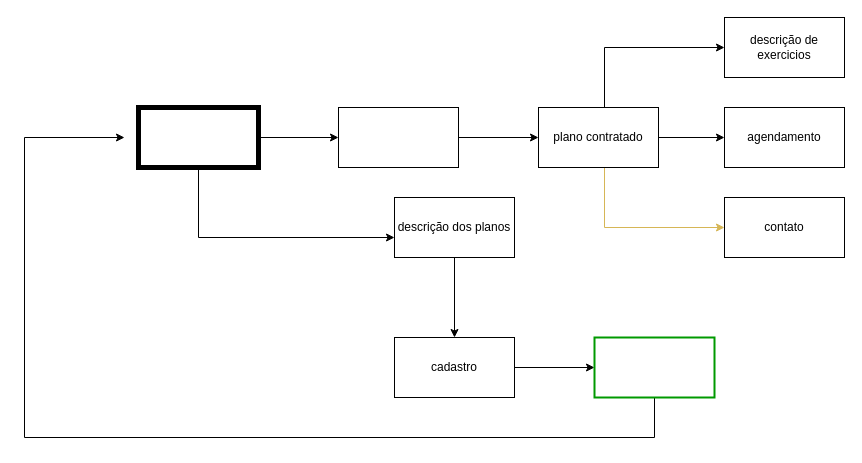
Some shapes in this 862 by 463 pixel diagram are drawn without their labels. Here are the shapes that lost their labels. From the top down, the centre of each, then its label:
At point (198, 137): "home".
At point (398, 137): "login".
At point (654, 367): "pagamento".
